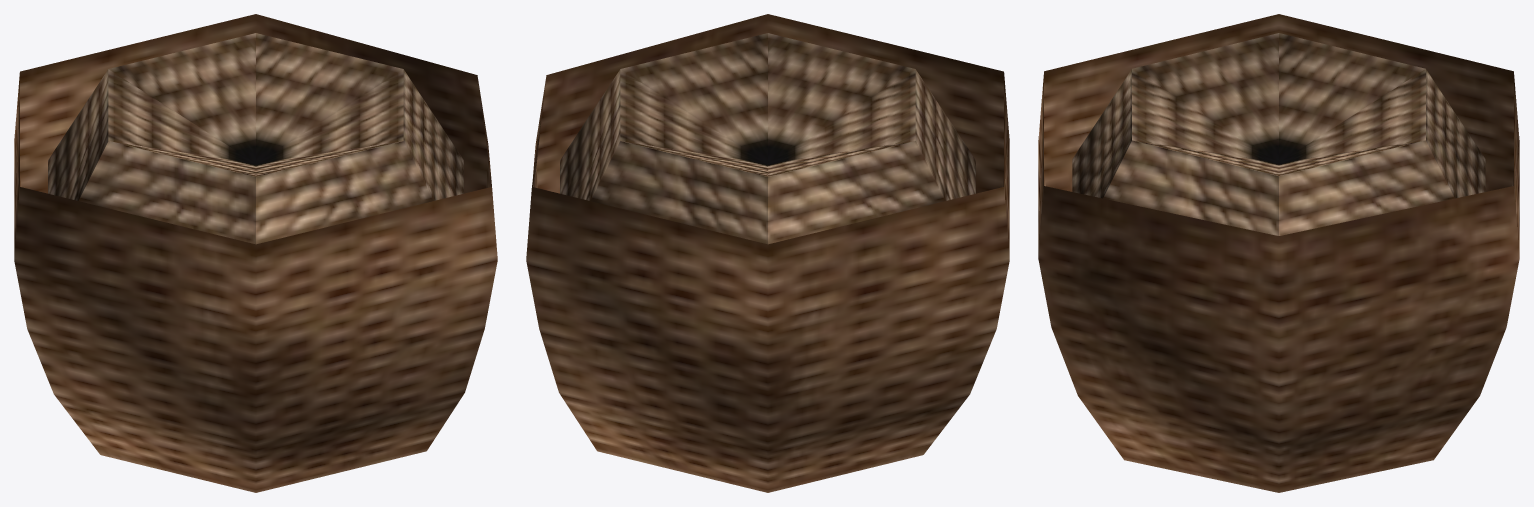
File: basket_rope.fbx
3 views of the same model, side by side, from view 1: azimuth 30°, elevation 25°; view 2: azimuth 150°, elevation 25°; view 3: azimuth 270°, elevation 25° (orthographic).
Parts seen in each view (by area): view 1: basket_high, rope_high; view 2: basket_high, rope_high; view 3: basket_high, rope_high.
Part boxes in pixels (box(x1,y1,x2,y2)): basket_high: box(14, 14, 497, 492); rope_high: box(48, 33, 463, 244); basket_high: box(526, 14, 1009, 492); rope_high: box(560, 33, 975, 244); basket_high: box(1038, 14, 1519, 492); rope_high: box(1072, 33, 1485, 235).
Bounding box in the file's own units: 322 × 202 × 284.
Materials: 1 (1 with a texture image).
